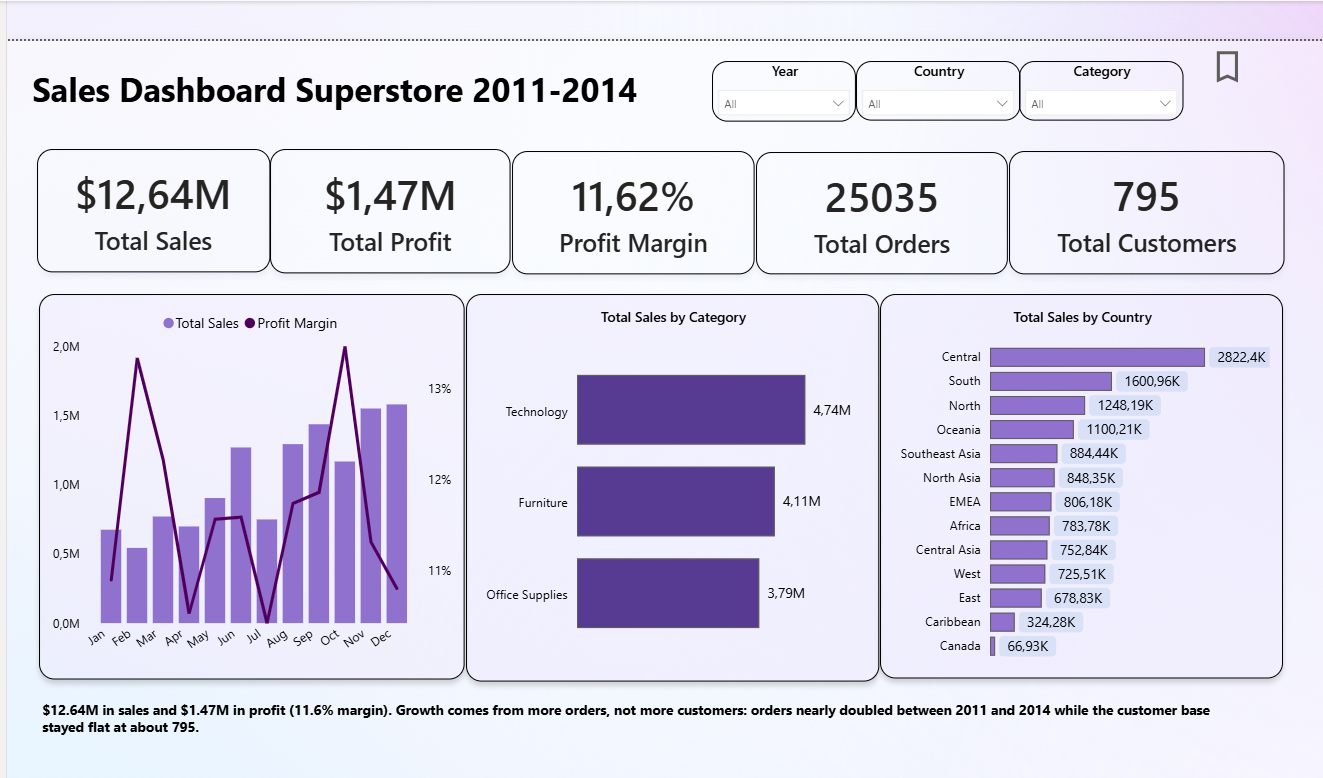

The dashboard page shown, as its layout file describes it:
{"tool":"powerbi","page":{"name":"KPI&Trend","canvas":[1280,720],"ordinal":0},"visuals":[{"type":"actionButton","box":[0,0,100,40],"z":0},{"type":"cardVisual","fields":{"Data":["SuperStoreOrders.Total Sales","SuperStoreOrders.Total Profit","SuperStoreOrders.Total Orders","SuperStoreOrders.Profit Margin"]},"box":[0,45.2,1079.6,117.9],"z":1000},{"type":"cardVisual","fields":{"Data":["SuperStoreOrders.Total Profit"]},"box":[606,167.3,192.6,105],"z":2000},{"type":"lineChart","title":"Monthly Sales Trend","fields":{"Y":["Sum(SuperStoreOrders.sales_number)"],"Category":["SuperStoreOrders.order_date.Варіація.Ієрархія дат.Місяць"]},"box":[4.9,163.4,1275.1,230.5],"z":4000},{"type":"slicer","title":"Country","fields":{"Values":["SuperStoreOrders.country"]},"box":[1102,426,175.1,70],"z":5000},{"type":"slicer","title":"Order Date","fields":{"Values":["SuperStoreOrders.order_date"]},"box":[1084.5,52.5,189.7,100.2],"z":6000},{"type":"textbox","box":[0,0,631.2,48.6],"z":7000},{"type":"donutChart","title":"Total  Sales by Category","fields":{"Category":["SuperStoreOrders.category"],"Y":["Sum(SuperStoreOrders.sales_number)"]},"box":[0,397.8,530.1,321.9],"z":8000},{"type":"clusteredBarChart","title":"Total Sales by Sub_category","fields":{"Category":["SuperStoreOrders.sub_category"],"Y":["Sum(SuperStoreOrders.sales_number)"]},"box":[546.6,397.8,527.2,321.9],"z":9000},{"type":"slicer","title":"Category","fields":{"Values":["SuperStoreOrders.category"]},"box":[1102,523.3,155.6,119.6],"z":10000},{"type":"actionButton","box":[640,3.9,100.2,39.9],"z":13000}]}

Visuals, with their boxes on the page's 1280x720 design canvas (x1, y1, x2, y2). These are canvas units, not pixel positions in the 1323x778 screenshot, which may show the page scaled, cropped or inside an application window:
actionButton: BBox(0, 0, 100, 40)
cardVisual - SuperStoreOrders.Total Sales x SuperStoreOrders.Total Profit: BBox(0, 45, 1080, 163)
cardVisual - SuperStoreOrders.Total Profit: BBox(606, 167, 799, 272)
"Monthly Sales Trend" lineChart: BBox(5, 163, 1280, 394)
"Country" slicer: BBox(1102, 426, 1277, 496)
"Order Date" slicer: BBox(1084, 52, 1274, 153)
textbox: BBox(0, 0, 631, 49)
"Total  Sales by Category" donutChart: BBox(0, 398, 530, 720)
"Total Sales by Sub_category" clusteredBarChart: BBox(547, 398, 1074, 720)
"Category" slicer: BBox(1102, 523, 1258, 643)
actionButton: BBox(640, 4, 740, 44)
